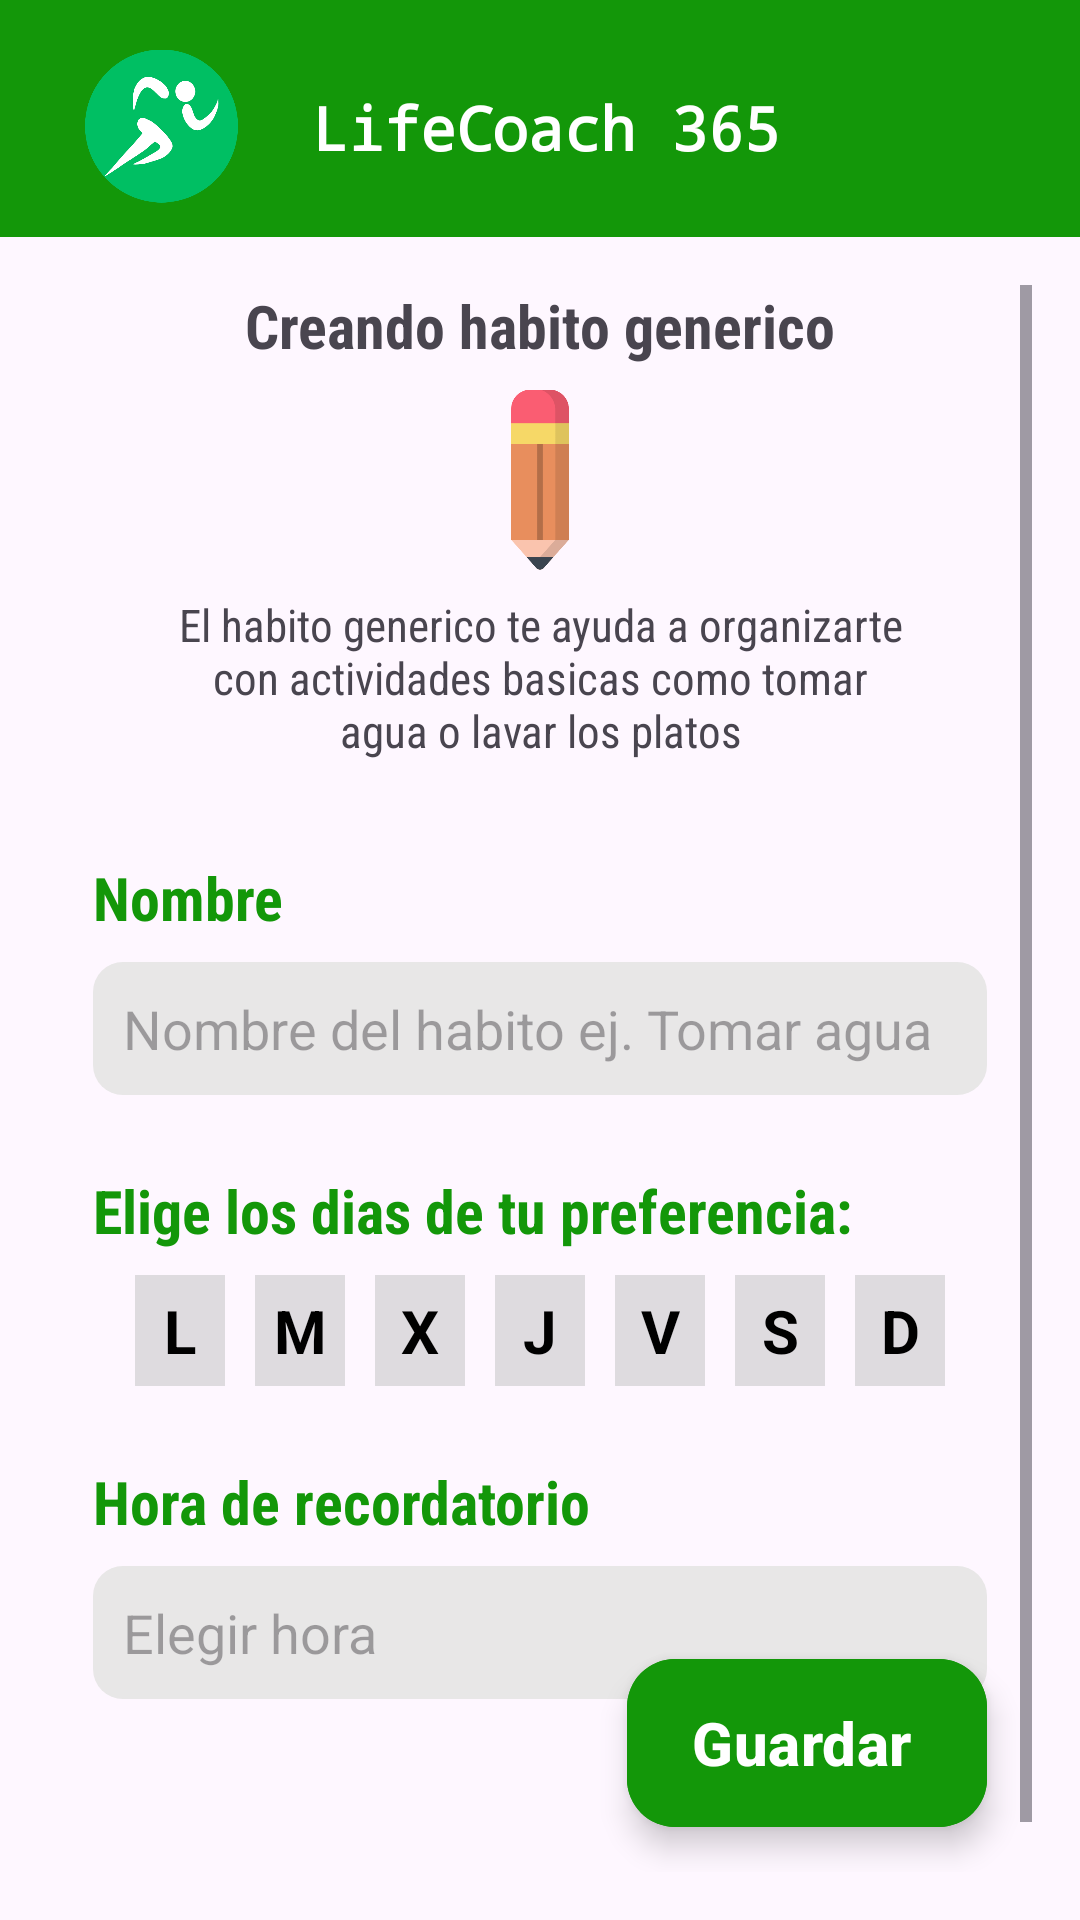

Locate icon controls on the screen. Image size 1080px×1920px, boxes as (x1, y1, x2, y2).
pencil: (511, 390, 569, 570)
